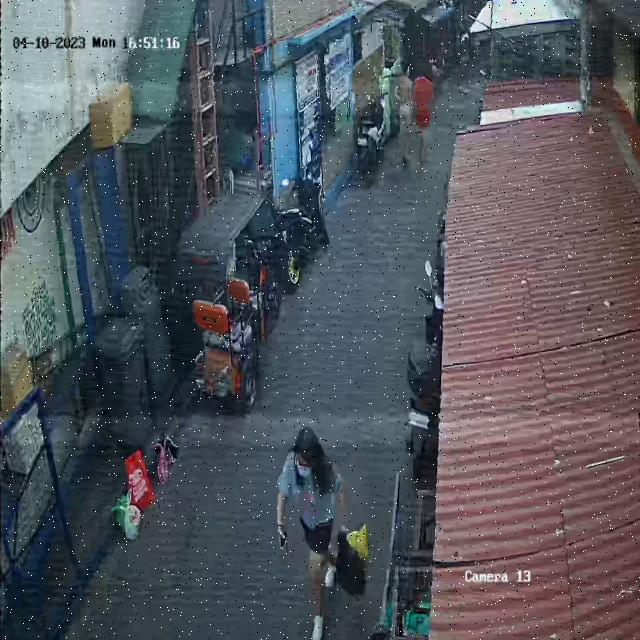garbage_dumping: (338, 525, 368, 599)
